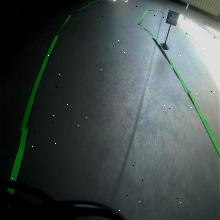crosswalk: (166, 10, 179, 27)
